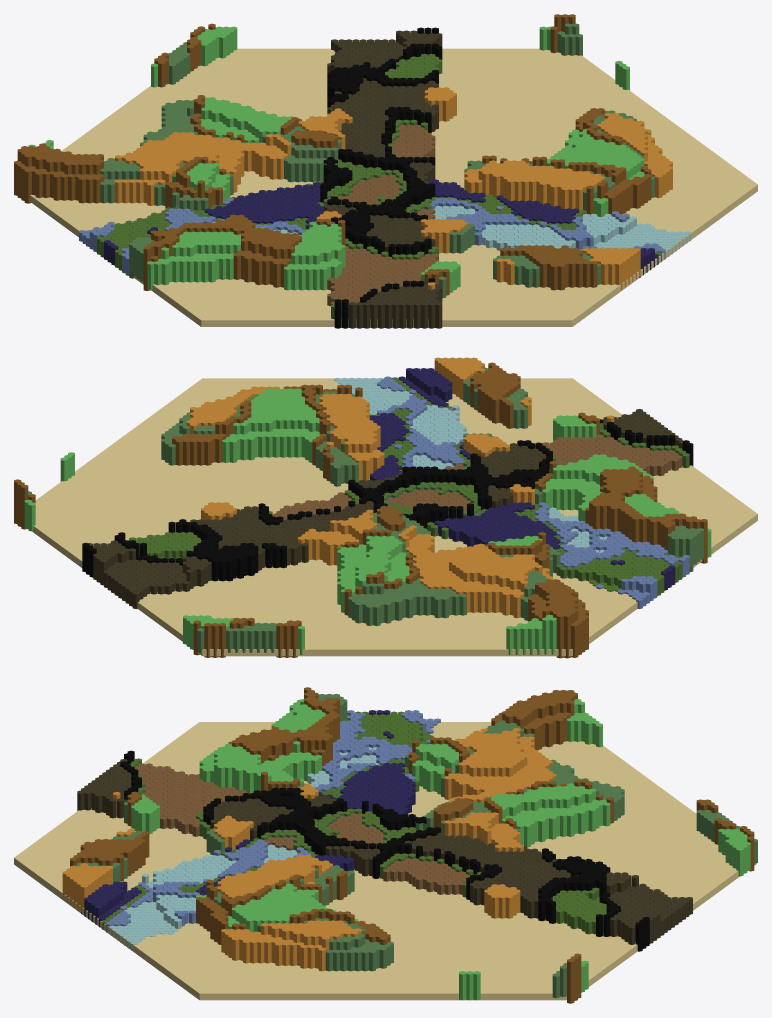
The model's file is 0022_tile_1102120.fbx.
3 renders of one model, top to bottom at view 1: azimuth 30°, elevation 25°; view 2: azimuth 150°, elevation 25°; view 3: azimuth 270°, elevation 25°, orthographic.
Visible parts, largest first — view 1: Plane; view 2: Plane; view 3: Plane.
Part boxes in pixels (x1,y1,x2,y2): Plane: (14, 14, 757, 328); Plane: (14, 357, 757, 658); Plane: (14, 687, 757, 1003).
Size of the model in its own units: 1008 by 70.98 by 1152.
